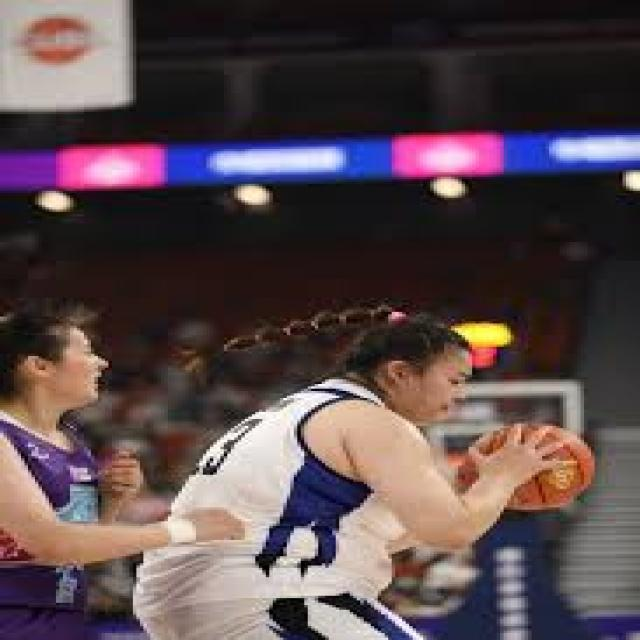rim: (483, 428, 591, 512)
